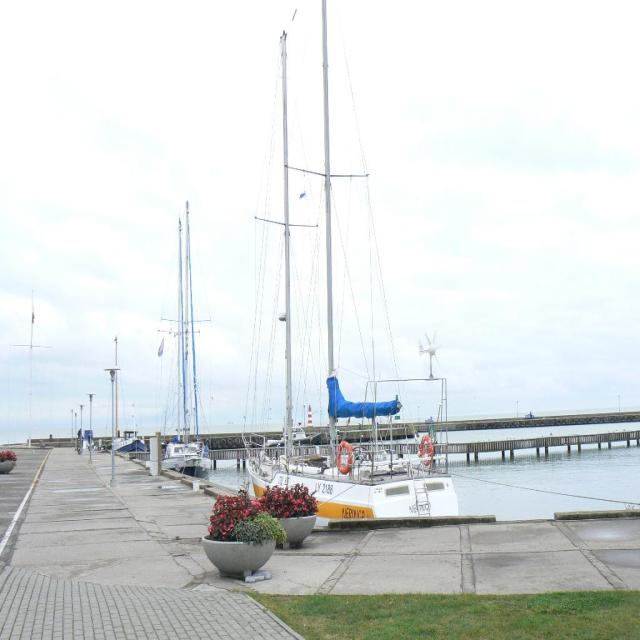Boat: (241, 0, 463, 529), (156, 199, 214, 481), (114, 398, 150, 457), (264, 423, 324, 448)
